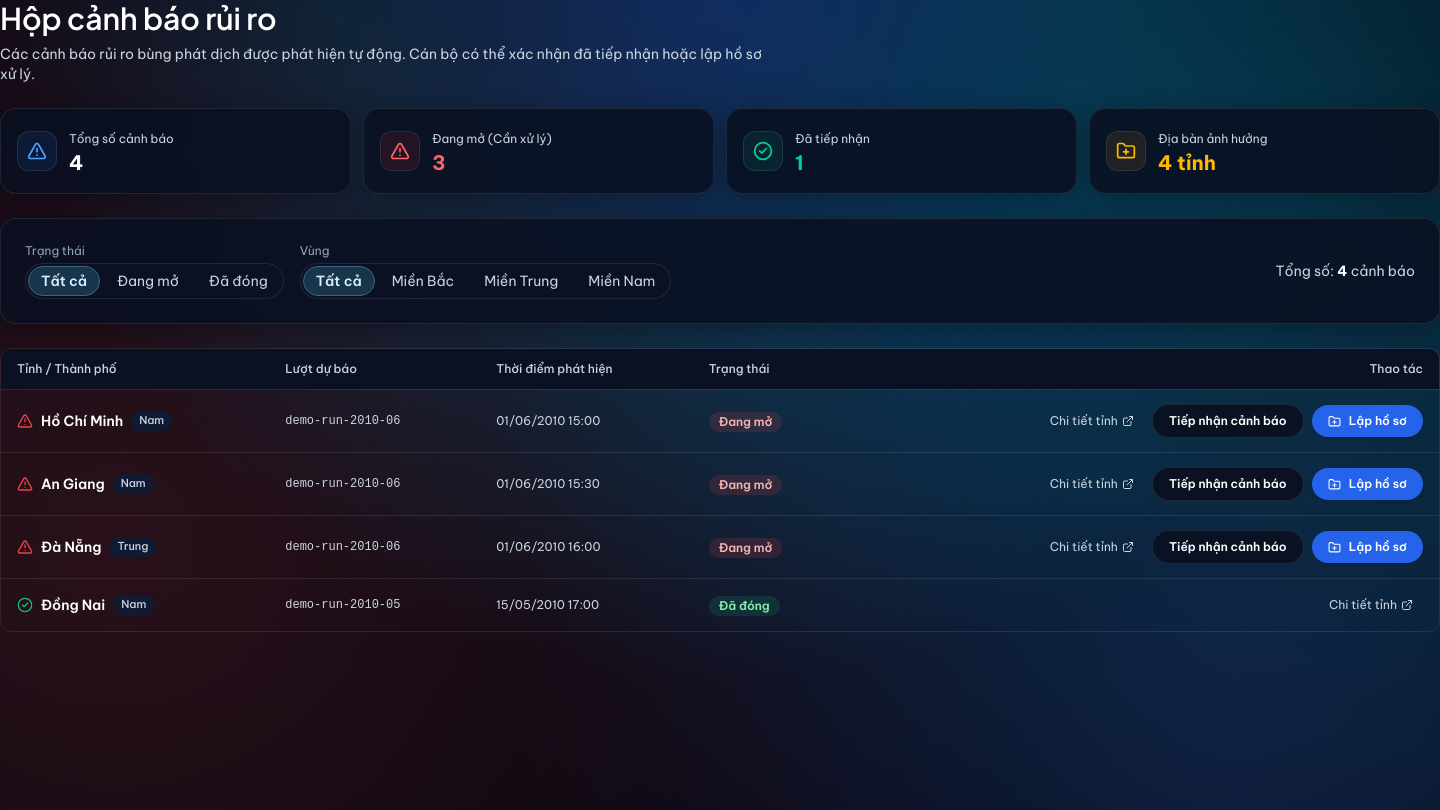
AlertsPage (S6 Cảnh báo rủi ro) › officer mở modal lập hồ sơ xử lý từ cảnh báo
Check: the link "Hồ Chí Minh" is shown, box [41, 411, 123, 431]
Click the button "Lập hồ sơ" in the row of "Hồ Chí Minh".
click(1367, 421)  # box [1312, 405, 1423, 437]
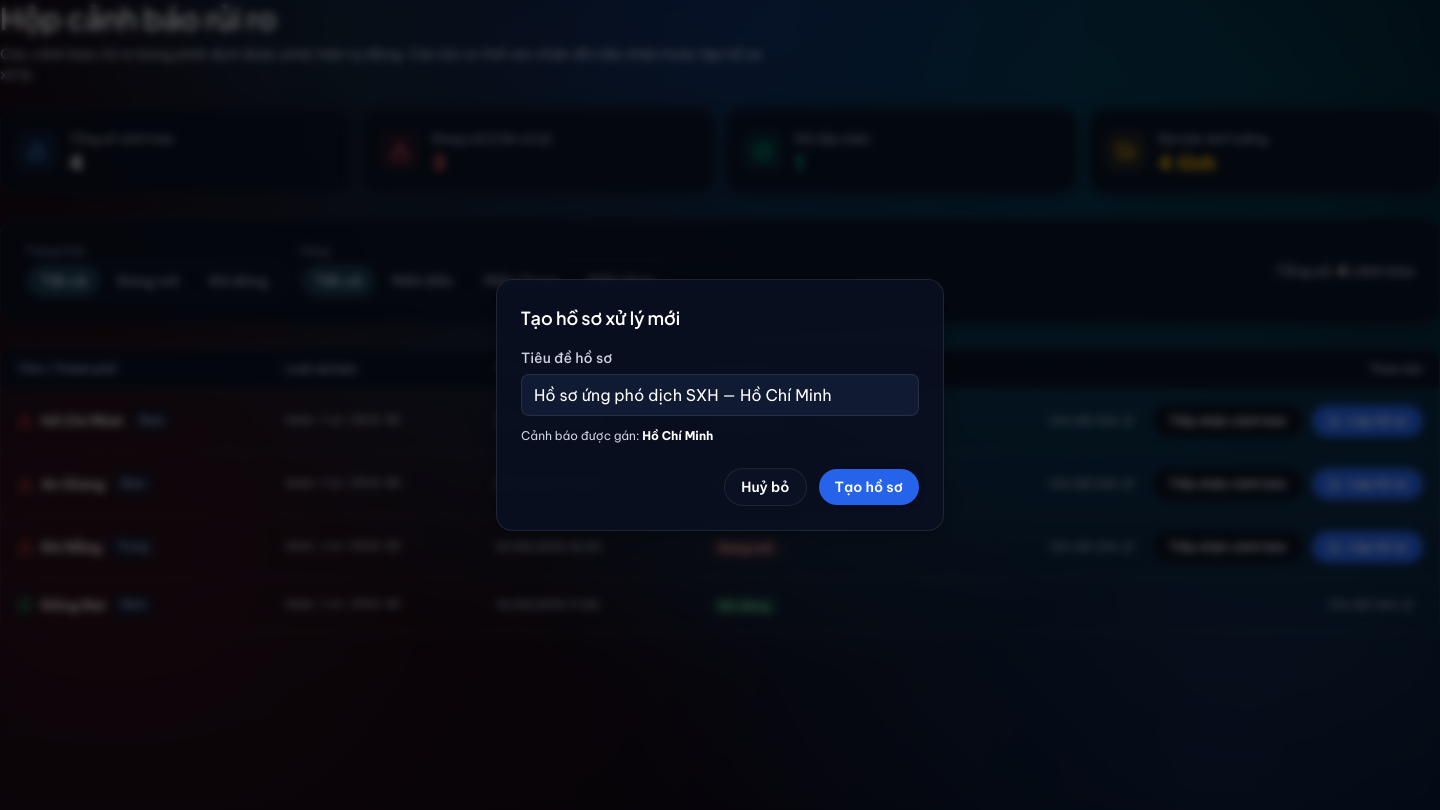
Check: the heading "Tạo hồ sơ xử lý mới" is shown, box [521, 306, 680, 329]
Check: the field showing "Hồ sơ ứng phó dịch SXH — Hồ Chí Minh" is shown, box [521, 374, 919, 416]
# Bấm huỷ bỏ
Click the button "Huỷ bỏ".
click(765, 487)  # box [724, 468, 807, 506]
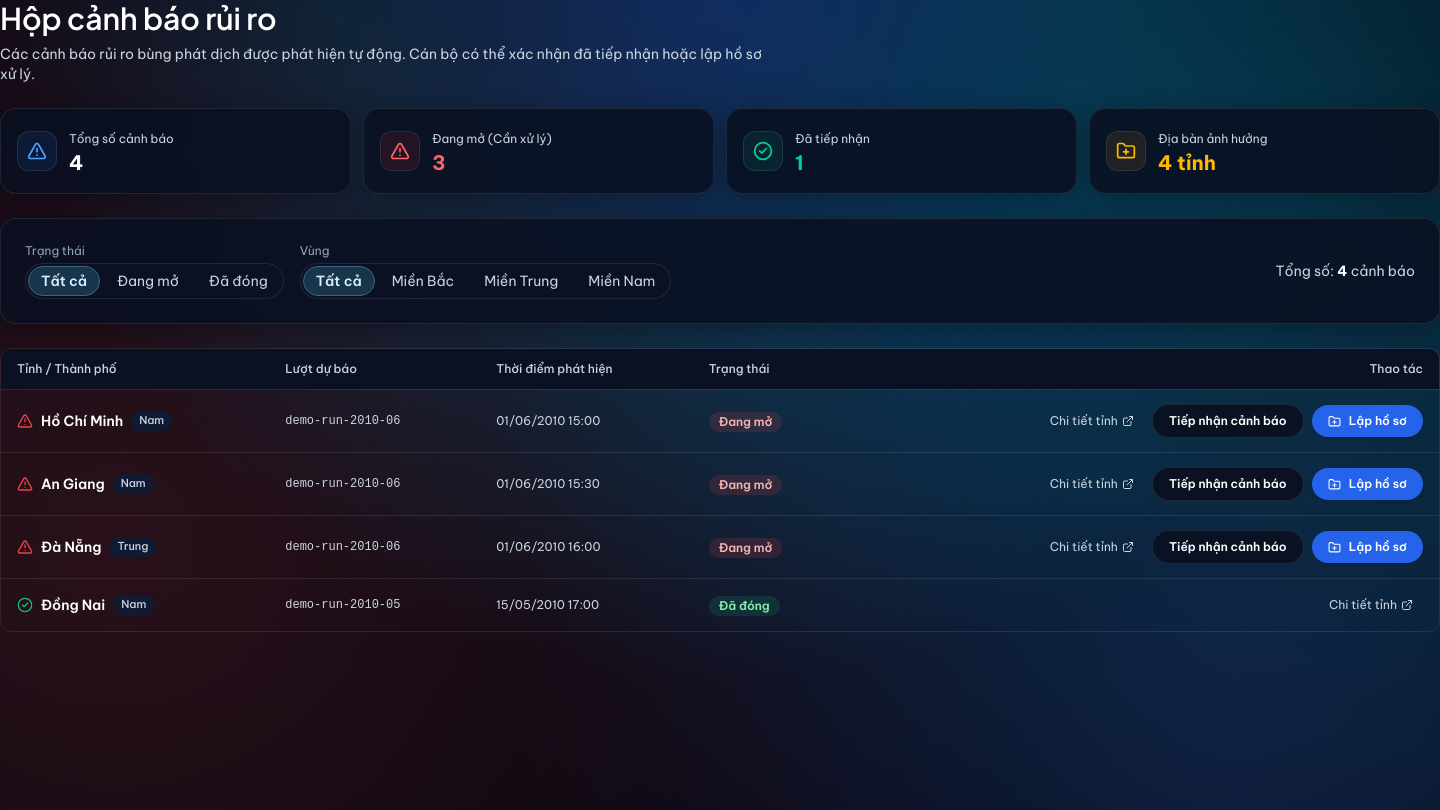
Check: the dialog is gone
